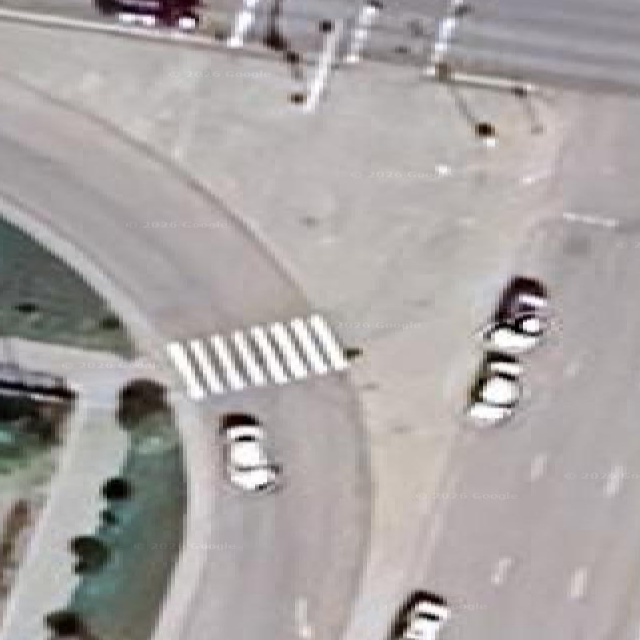car: (464, 276, 547, 427), (482, 276, 547, 352), (221, 413, 280, 492), (464, 352, 520, 427), (94, 0, 199, 30), (388, 591, 447, 639), (0, 363, 74, 400), (483, 312, 544, 352), (493, 276, 547, 320), (44, 608, 88, 639), (482, 352, 522, 377)
